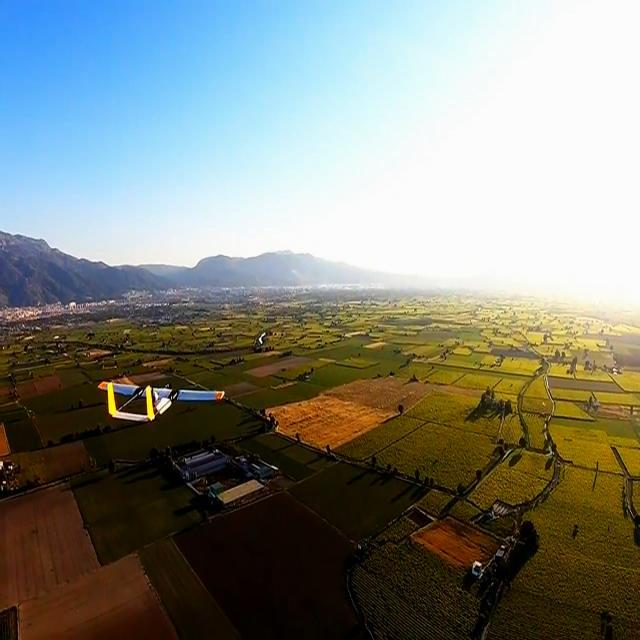iha: (95, 370, 228, 428)
